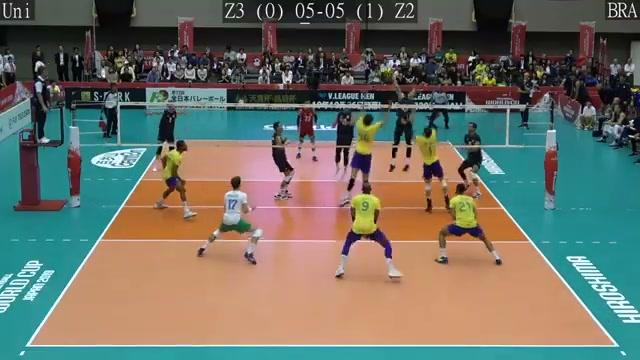ball: (380, 66, 397, 79)
